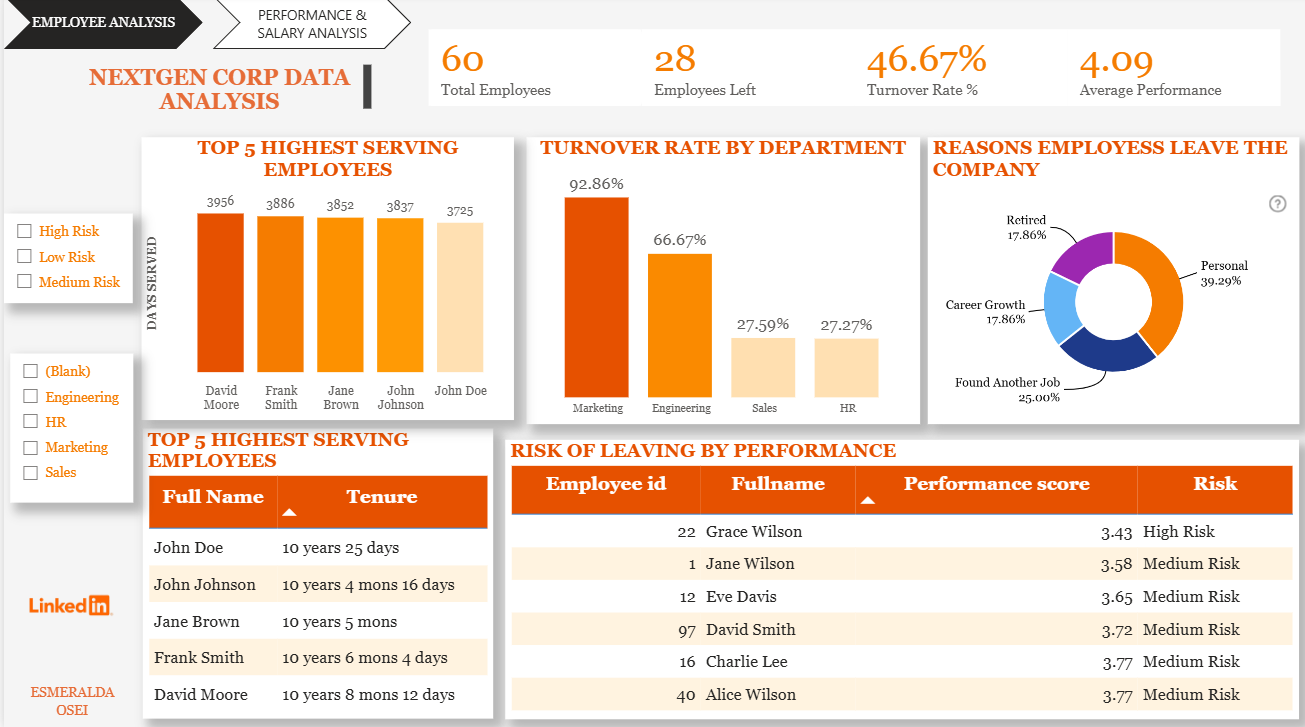

This screenshot's page, from the dashboard's own definition file:
{"tool":"powerbi","page":{"name":"EMPLOYEE ANALYSIS","canvas":[1280,720],"ordinal":0},"visuals":[{"type":"clusteredColumnChart","title":"TURNOVER RATE BY DEPARTMENT","fields":{"Category":["public department.department_name"],"Y":["Table.Turnover Rate %"]},"box":[512.5,138.3,386.2,281.5],"z":0},{"type":"ZoomChartsPieChartPaidE77E4ED357DC402ABA005987437CF500","title":" REASONS EMPLOYESS LEAVE THE COMPANY","fields":{"Category":["public turnover.reason_for_leaving"],"Values":["CountNonNull(public turnover.employee_id)"]},"box":[907,138.6,365,281.3],"z":1000},{"type":"tableEx","title":"TOP 5 HIGHEST SERVING EMPLOYEES","fields":{"Values":["Top 5 highest serving Employeesss.full_name","Top 5 highest serving Employeesss.tenure"]},"box":[136,424.4,344.2,284.9],"z":2000},{"type":"clusteredColumnChart","title":"TOP 5 HIGHEST SERVING  EMPLOYEES","fields":{"Category":["public employee.Full Name"],"Y":["Sum(public employee.Days Served)"]},"box":[135.5,138.9,365.8,277.8],"z":3000},{"type":"tableEx","title":"RISK OF LEAVING BY PERFORMANCE","fields":{"Values":["Sum(AT RISK OF LEAVING EMP.employee_id)","AT RISK OF LEAVING EMP.Fullname","AT RISK OF LEAVING EMP.Performance score","AT RISK OF LEAVING EMP.Risk"]},"box":[492,435.5,779.5,274.3],"z":4000},{"type":"cardVisual","fields":{"Data":["Table.Total Employees","Table.Employees Left","Table.Turnover Rate %","Table.Average Performance"]},"box":[400.6,15.6,871,109.5],"z":5000},{"type":"slicer","fields":{"Values":["AT RISK OF LEAVING EMP.Risk"]},"box":[0,213.4,126.5,88.1],"z":6000},{"type":"slicer","fields":{"Values":["Salary Performance correlation.department_name"]},"box":[5.6,351.2,120.8,146.8],"z":7000},{"type":"pageNavigator","box":[0,0,400.7,52.1],"z":8000},{"type":"textbox","box":[66.6,62.1,299.2,55.3],"z":9000},{"type":"image","box":[22.6,553.3,88.1,89.2],"z":10000},{"type":"textbox","box":[3.4,668.5,126.5,51.9],"z":11000}]}

Visuals, with their boxes in screenshot pixels (x1, y1, x2, y2), scaled from the page's 1280x720 canvas onto the 1305x727 screenshot:
"TURNOVER RATE BY DEPARTMENT" clusteredColumnChart: [523, 140, 916, 424]
" REASONS EMPLOYESS LEAVE THE COMPANY" ZoomChartsPieChartPaidE77E4ED357DC402ABA005987437CF500: [925, 140, 1297, 424]
"TOP 5 HIGHEST SERVING EMPLOYEES" tableEx: [139, 429, 490, 716]
"TOP 5 HIGHEST SERVING  EMPLOYEES" clusteredColumnChart: [138, 140, 511, 421]
"RISK OF LEAVING BY PERFORMANCE" tableEx: [502, 440, 1296, 717]
cardVisual - Table.Total Employees x Table.Employees Left: [408, 16, 1296, 126]
slicer - AT RISK OF LEAVING EMP.Risk: [0, 215, 129, 304]
slicer - Salary Performance correlation.department_name: [6, 355, 129, 503]
pageNavigator: [0, 0, 409, 53]
textbox: [68, 63, 373, 119]
image: [23, 559, 113, 649]
textbox: [3, 675, 132, 726]
